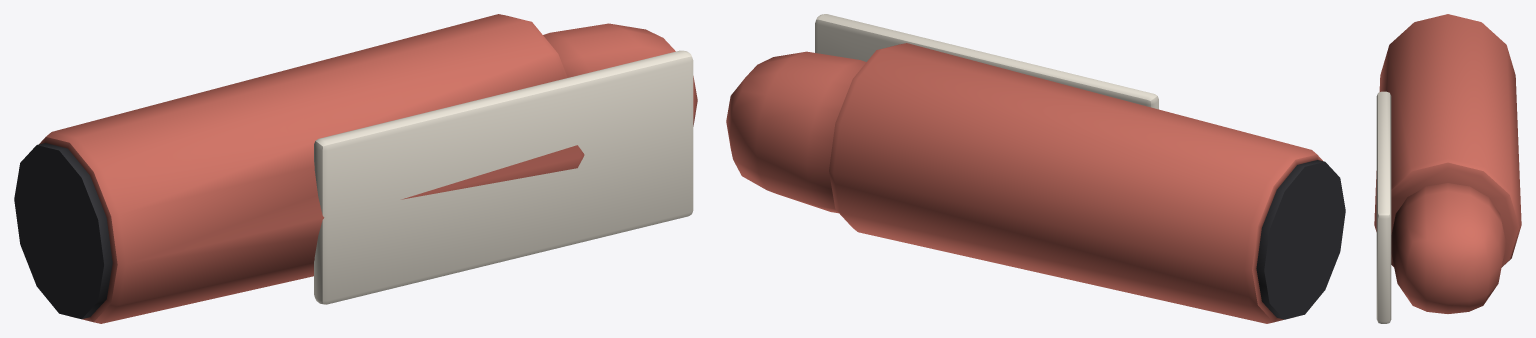
The model's file is fishing_boot.glb.
3 views of the same model, side by side, from view 1: azimuth 30°, elevation 25°; view 2: azimuth 150°, elevation 25°; view 3: azimuth 270°, elevation 25° (orthographic). The views are drawn at different scales.
Visible parts, largest first — view 1: PART; view 2: PART; view 3: PART.
Part boxes in pixels (x1,y1,x2,y2): PART: (14,14,697,323); PART: (726,14,1345,323); PART: (1374,14,1521,323).
Size of the model in its own units: 0.4026 by 0.1198 by 0.1198.
